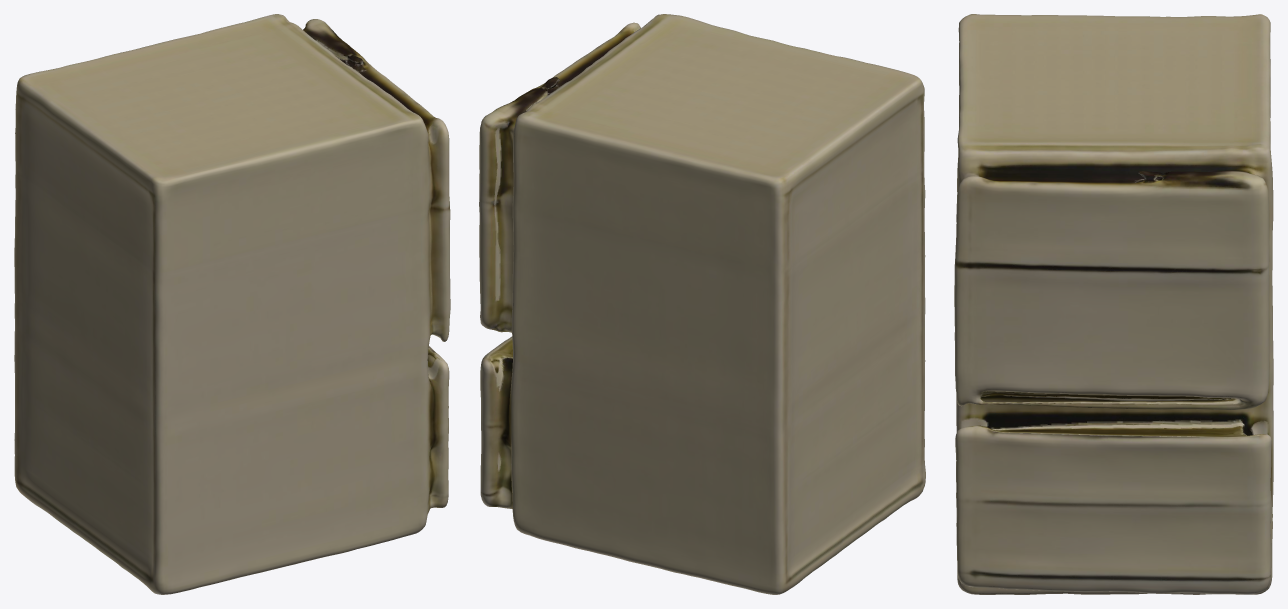
The model's file is drawer.obj.
3 renders of one model, left to right at view 1: azimuth 30°, elevation 25°; view 2: azimuth 150°, elevation 25°; view 3: azimuth 270°, elevation 25°, orthographic. The views are drawn at different scales.
Parts seen in each view (by area): view 1: mesh; view 2: mesh; view 3: mesh.
Boxes of the visible parts, x1=… form: mesh: x1=14, y1=14, x2=450, y2=594; mesh: x1=479, y1=14, x2=925, y2=594; mesh: x1=954, y1=14, x2=1273, y2=594.
Size of the model in its own units: 0.7668 by 0.9984 by 0.6472.
Materials: 1 (1 with a texture image).
